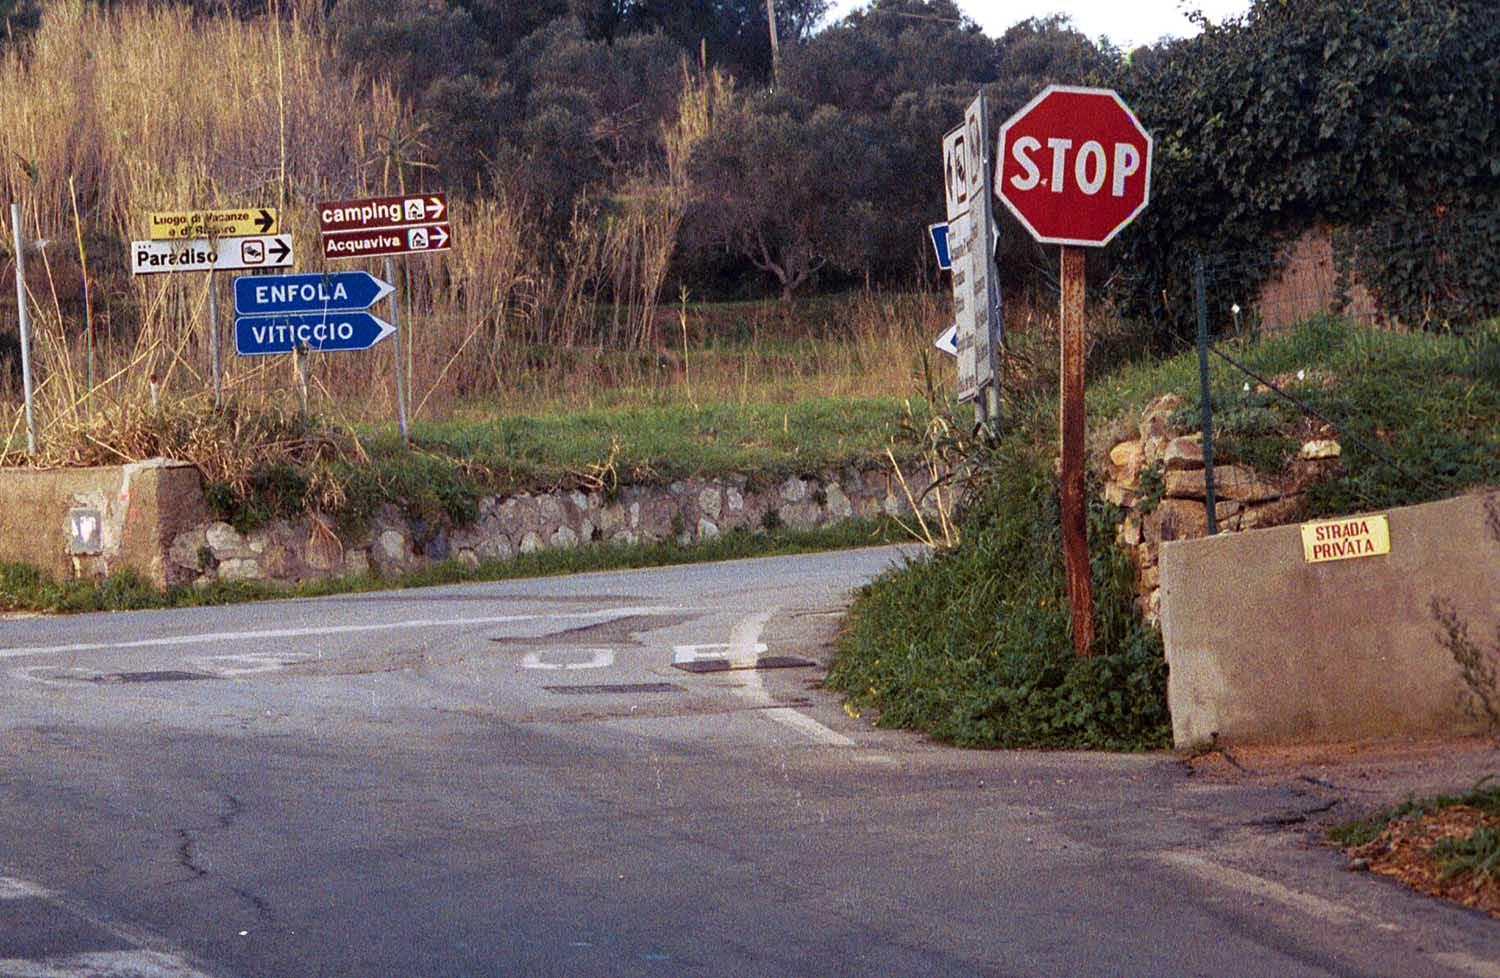Pole: (1055, 254, 1090, 648), (10, 204, 40, 456), (1194, 263, 1219, 523), (206, 270, 222, 404)
Sign: (996, 86, 1156, 246)
